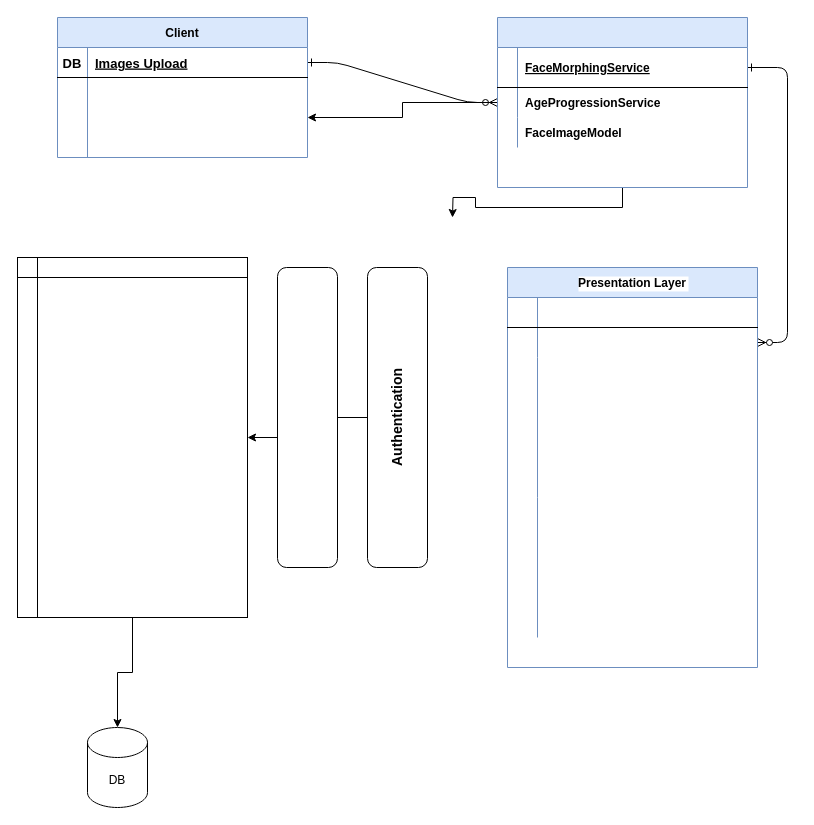
The diagram is 814 pixels wide and 825 high, and some of its shapes have lost their labels. Each missing label, with the box of its shape:
Authorization: (276, 266, 338, 568)
Business Layer: (496, 16, 748, 188)
